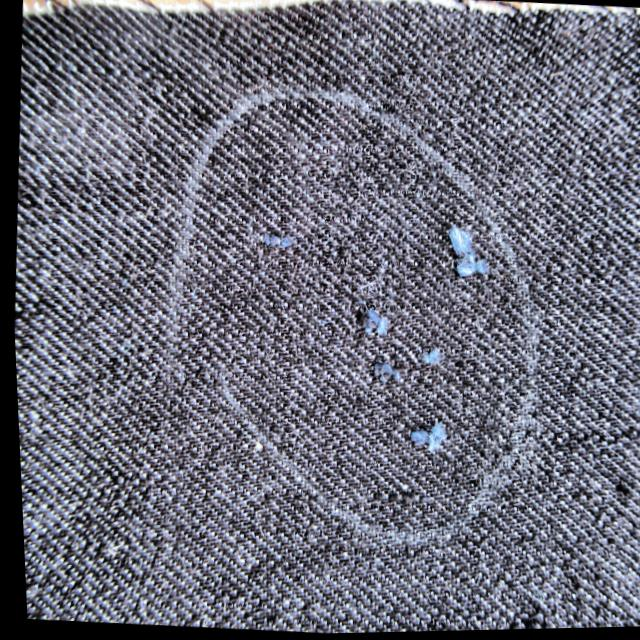Hole: (435, 223, 493, 306), (253, 232, 306, 292), (404, 418, 452, 462), (347, 303, 385, 344), (410, 342, 447, 375), (365, 365, 399, 399)
